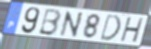8: (82, 13, 102, 39)
9: (21, 7, 41, 35)
B: (37, 8, 62, 37)
D: (98, 13, 122, 42)
H: (118, 17, 145, 45)
N: (58, 11, 85, 39)
